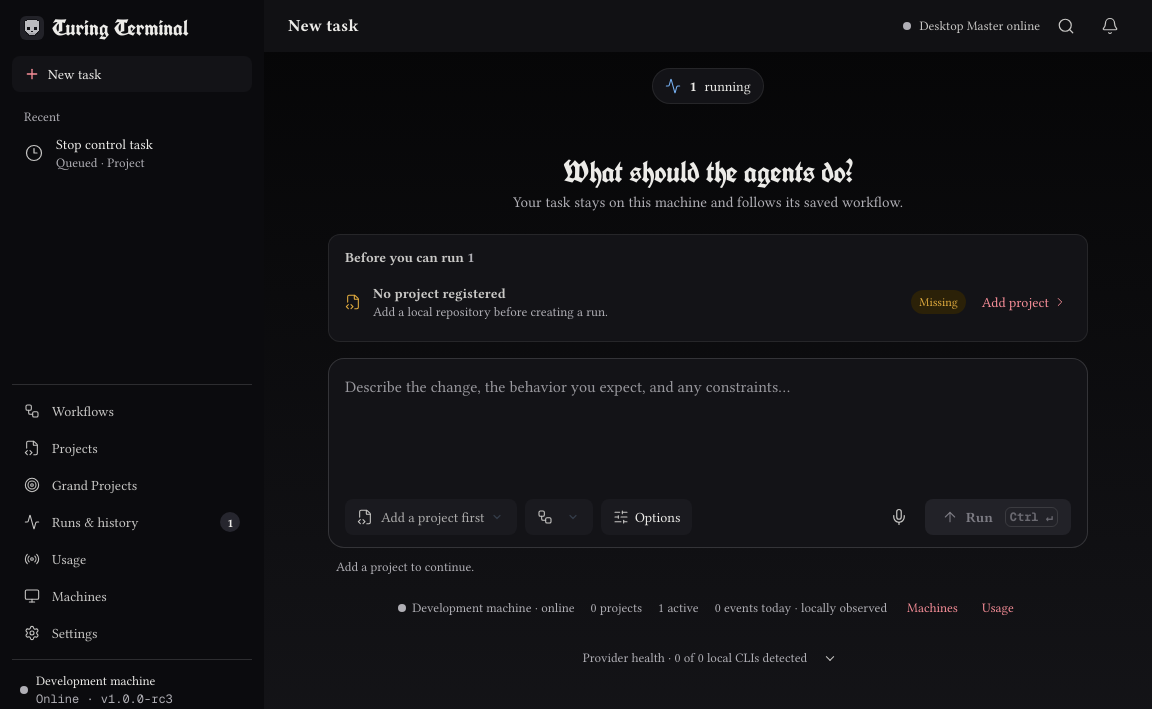
Turing Terminal shell › Stop control › reports a cancelled queued run as one that will not start
What coordinates should you click on to do the following:
click the button "Stop control task Queued · Project"
I would click on:
 (132, 153)
Its box is [12, 130, 252, 176].
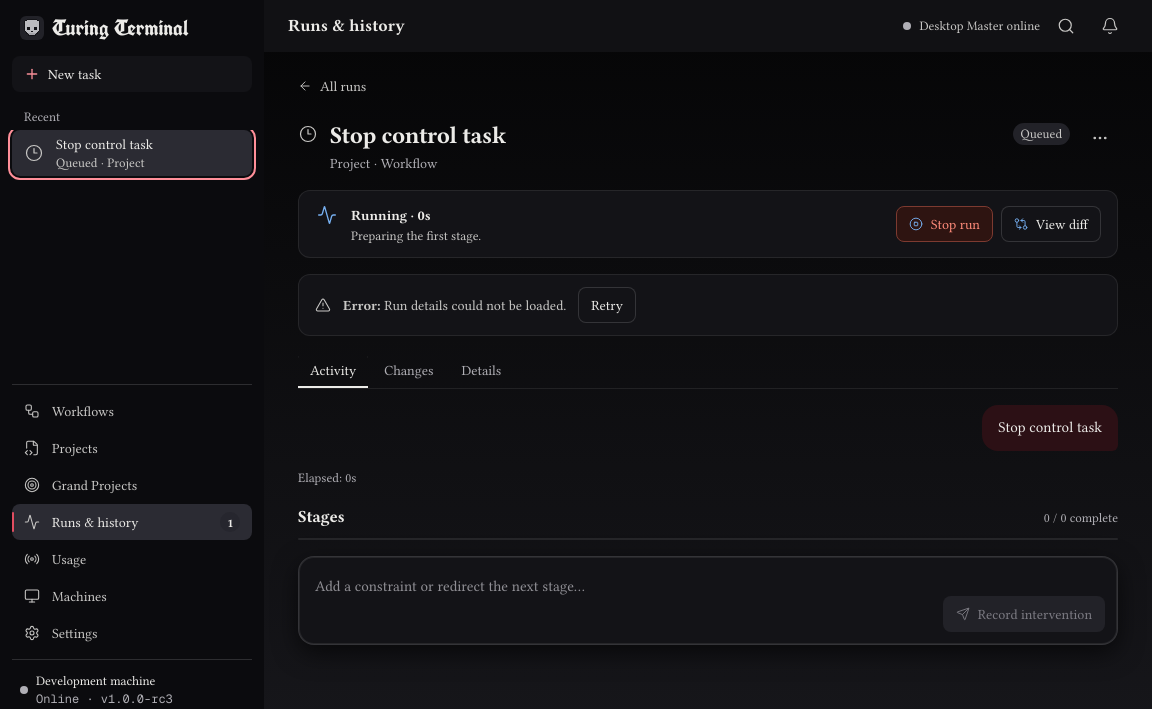
What coordinates should you click on to do the following:
click the button "Stop run"
I would click on:
 (944, 224)
Its box is [896, 206, 993, 242].
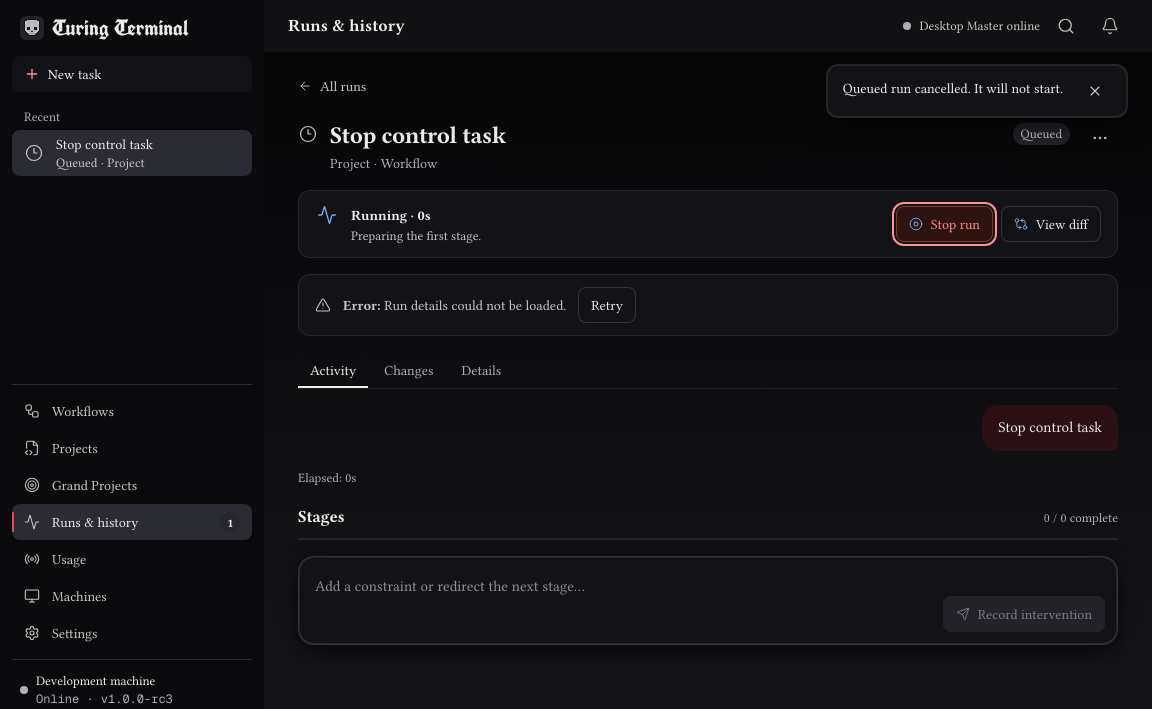
Check: the text "Queued run cancelled. It will not start." is shown, box [843, 77, 1063, 99]
